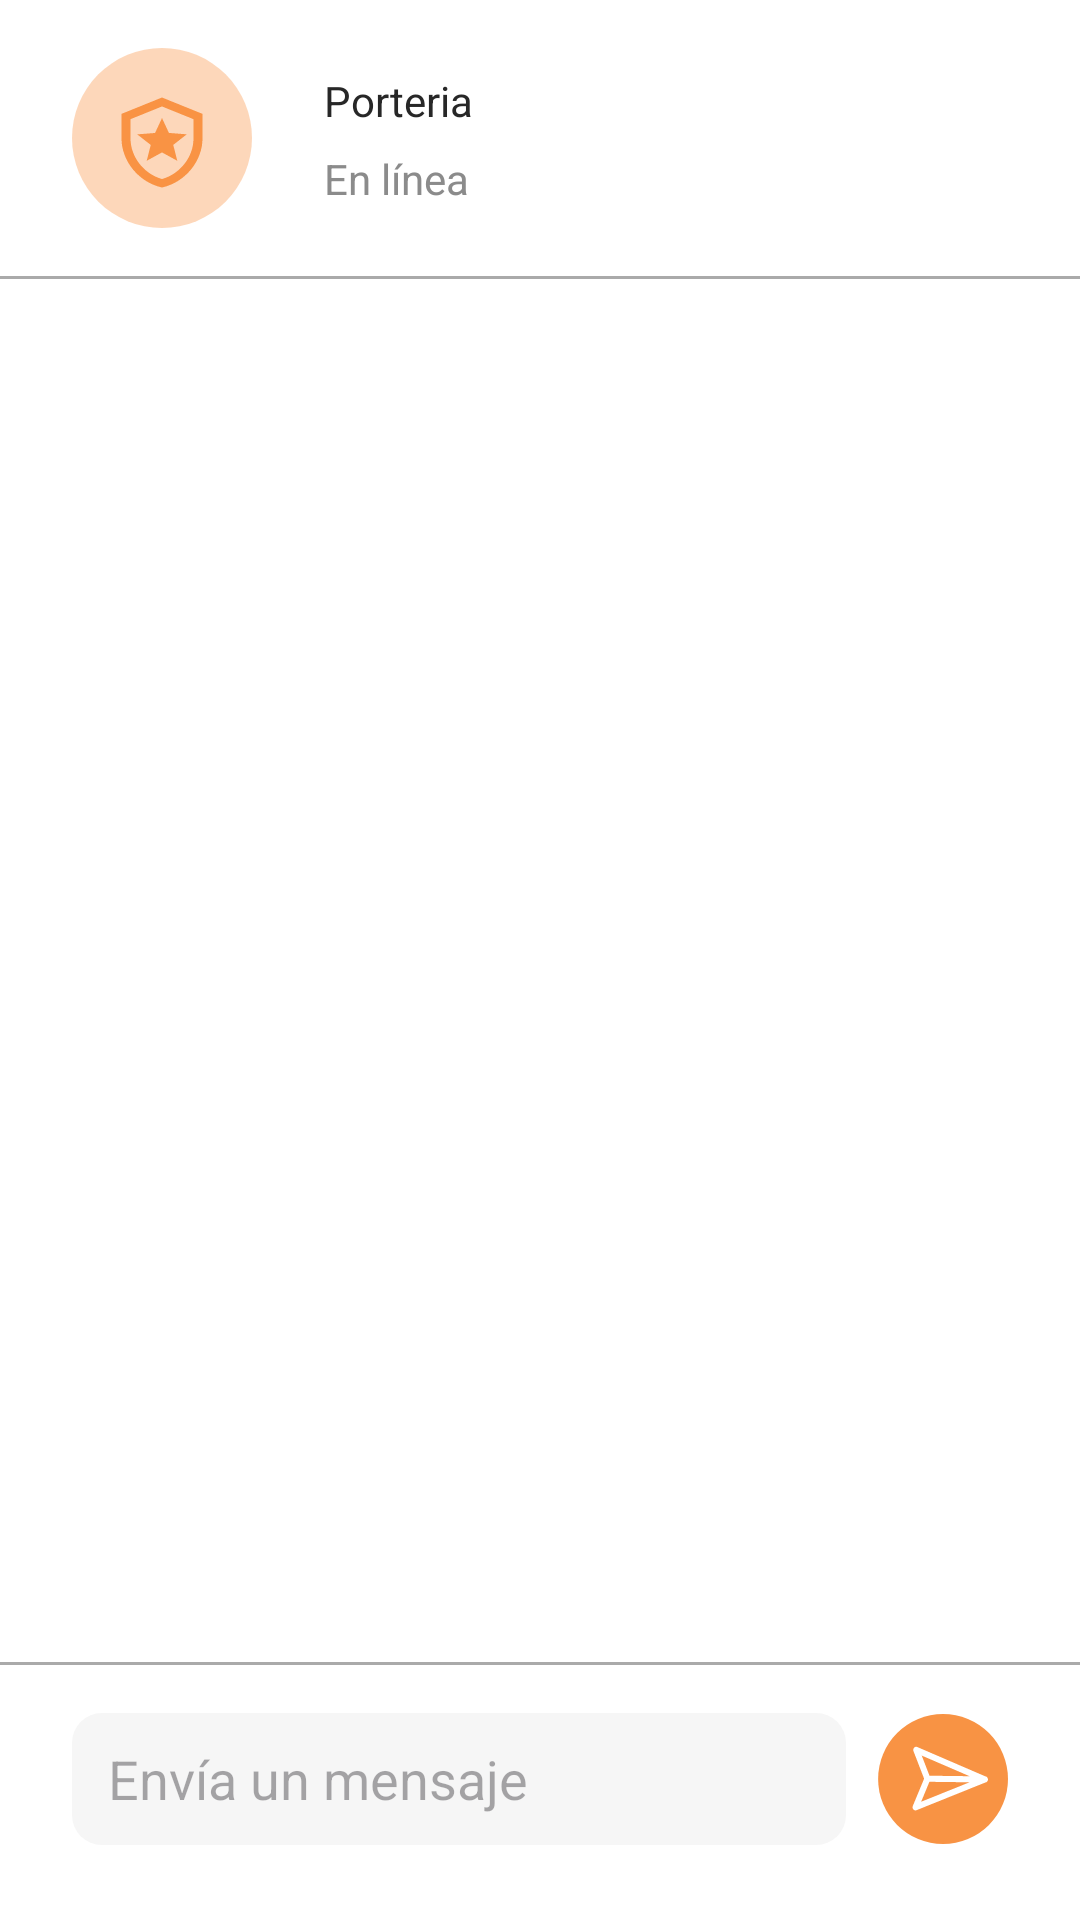

Screen size 1080 × 1920. Icon name, then its center in pixels as (x=x, y=y):
gio send message: (x=943, y=1779)
